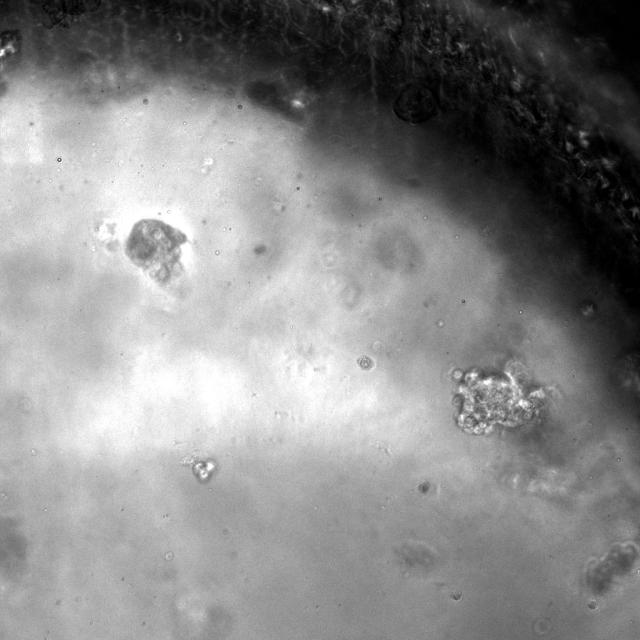organoid: (452, 361, 545, 435), (125, 219, 188, 282), (585, 543, 639, 594), (192, 459, 215, 482), (358, 355, 372, 369), (418, 480, 431, 493)
